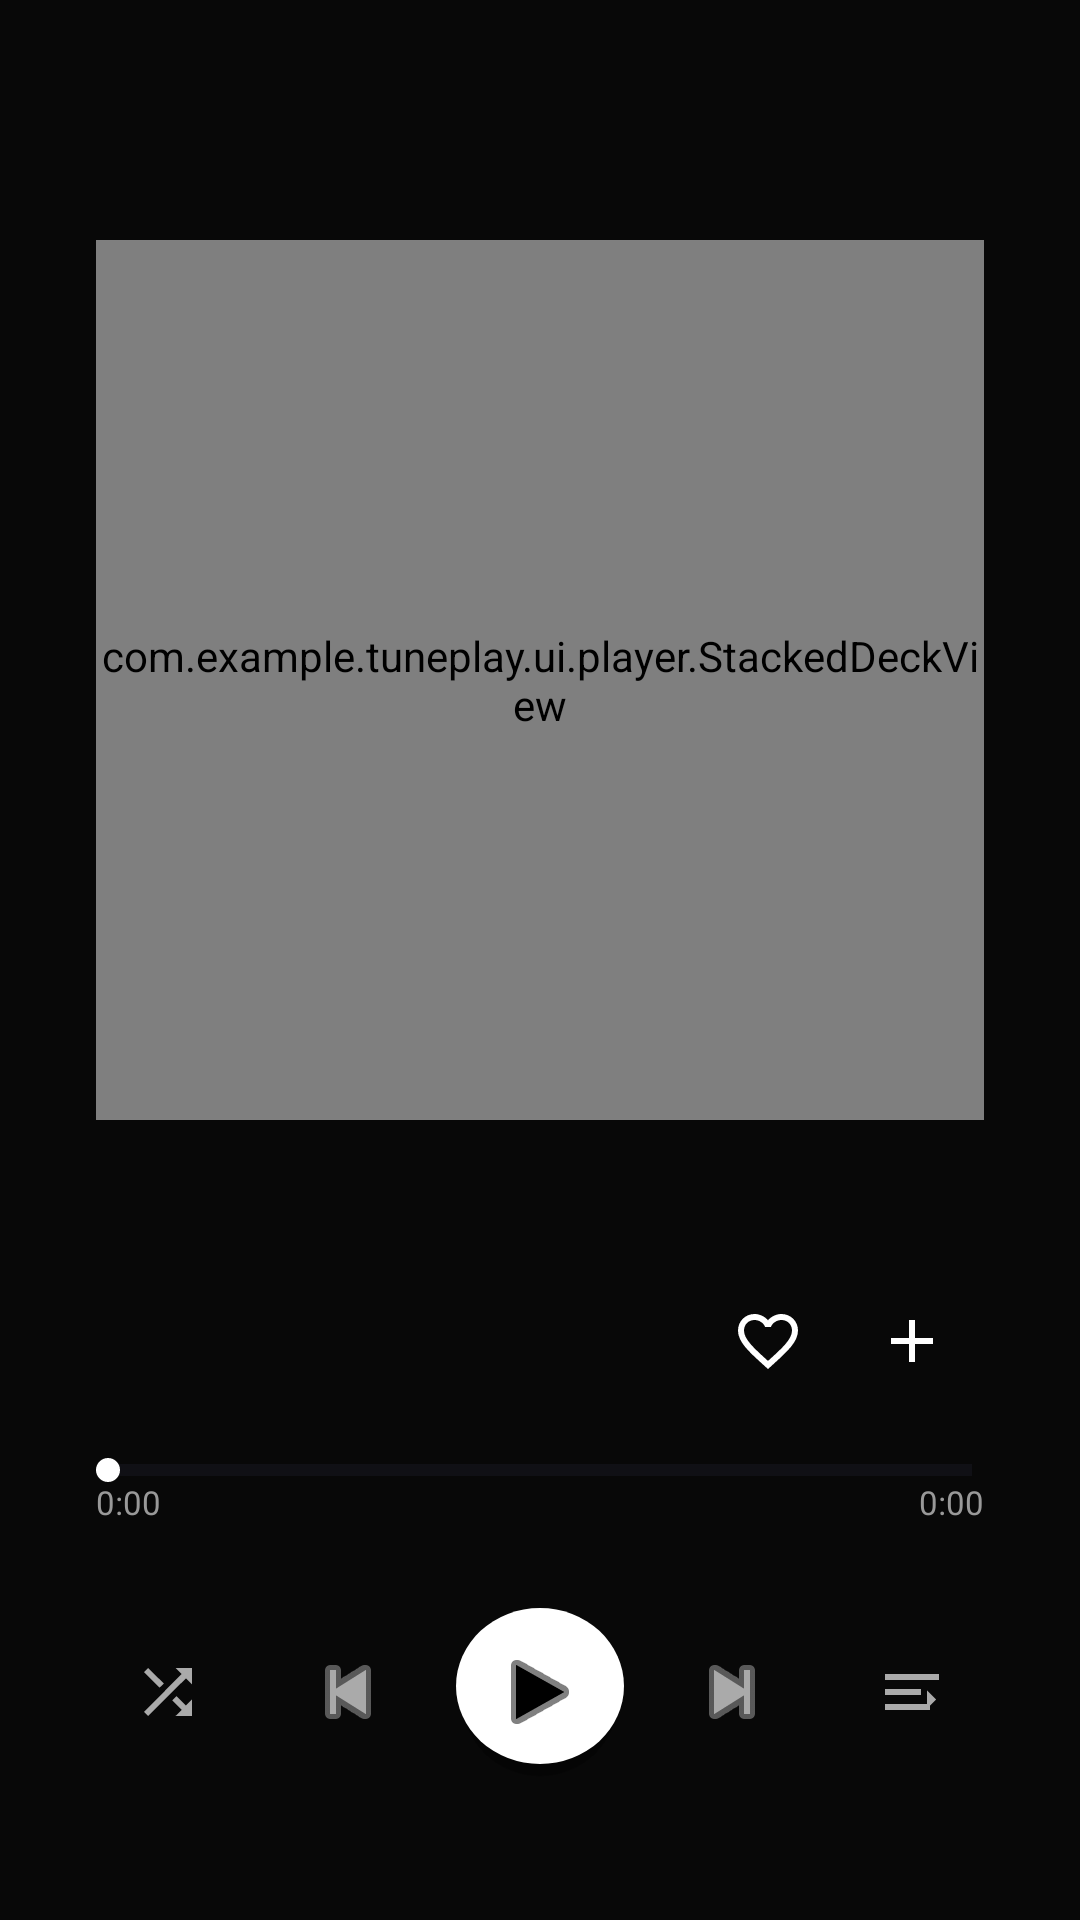

Where icons sit on this 1080px×1920px app screen, as detection(x1, y1, x2, y2):
Add to playlist: detection(891, 1320, 933, 1362)
Like: detection(738, 1314, 798, 1369)
Next: detection(709, 1665, 755, 1719)
Play/Pause: detection(456, 1608, 624, 1764)
Playlist: detection(885, 1674, 939, 1710)
Previous: detection(325, 1665, 371, 1719)
Shuffle: detection(144, 1668, 192, 1716)
